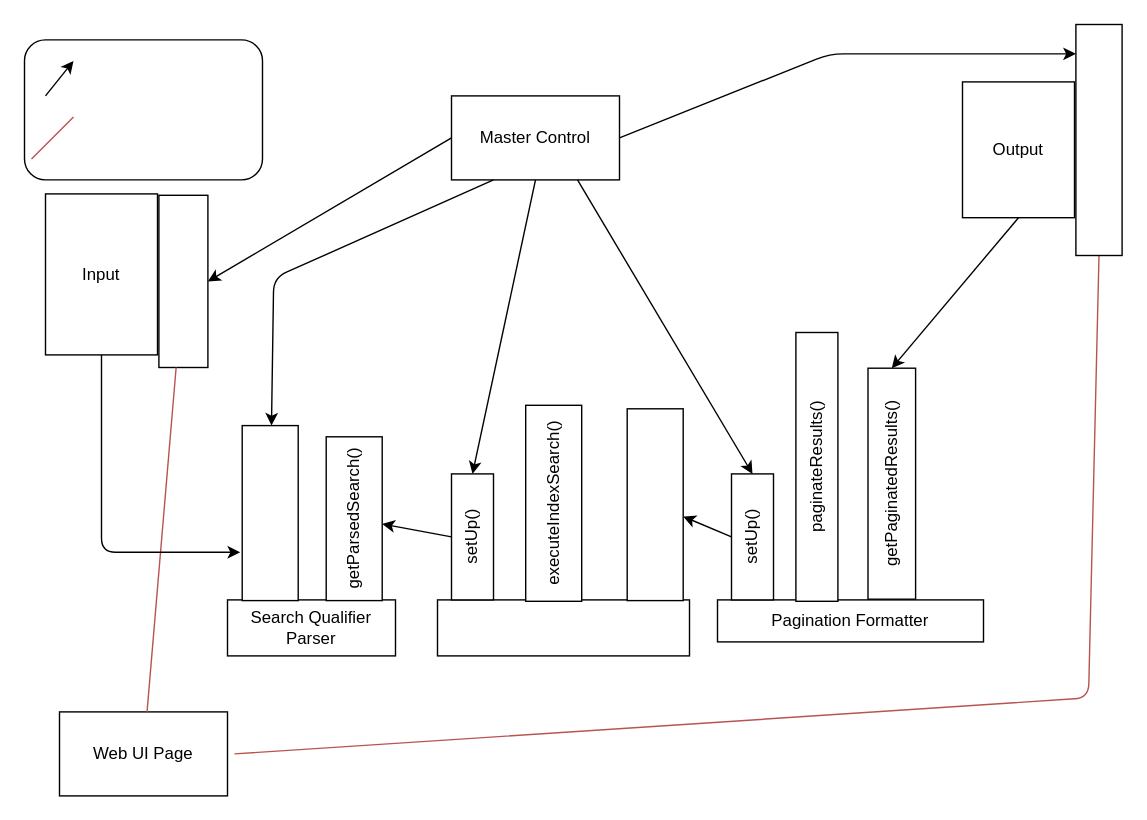
Some shapes in this 1147 by 820 pixel diagram are drawn without their labels. Here are the shapes that lost their labels. From the top down, the box of each, then its label:
(23, 38, 262, 180): Subprogram Call System I/O
(1074, 23, 1122, 255): writeToWebPage()
(158, 194, 208, 368): checkSearchInput()
(241, 424, 298, 601): parseQualifiers()
(626, 407, 683, 601): getIndexResults()
(436, 598, 690, 656): KWIC Storage Adapter
